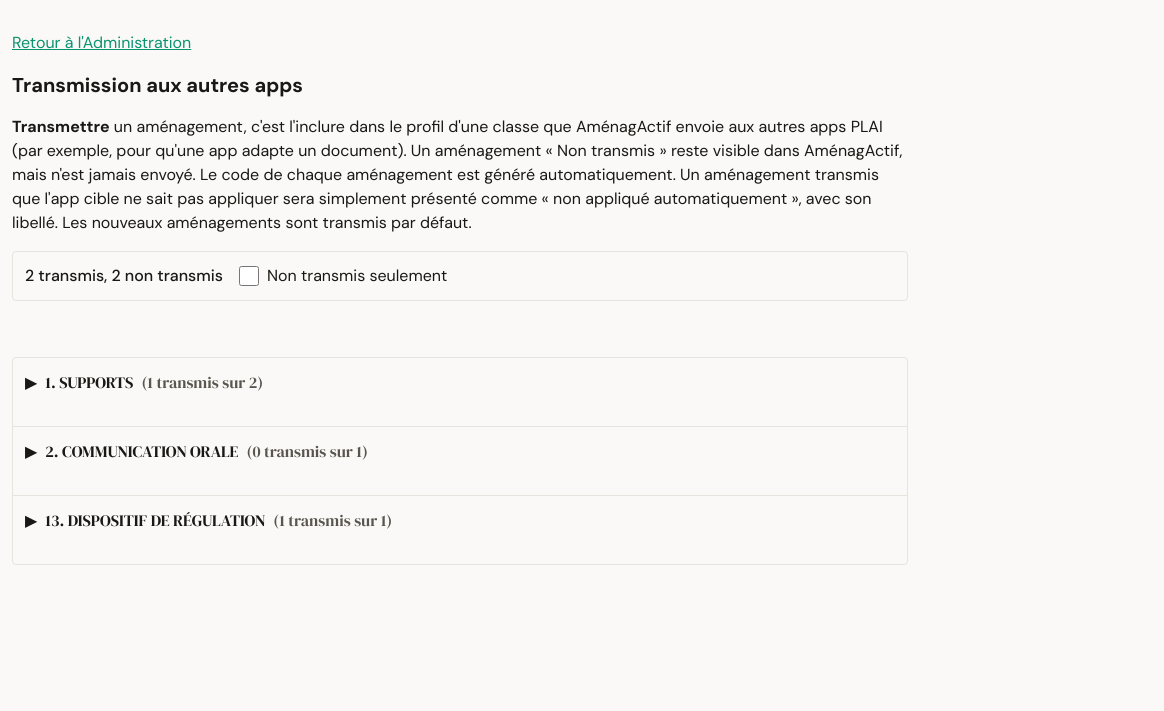
écran Transmission aux autres apps › un item de dispositif affiche « selon la classe » au lieu de AR
Click the button "▶ 13. DISPOSITIF DE RÉGULATION (1 transmis sur 1)": click(155, 520) x1=13 y1=496 x2=907 y2=544
(page scrolled)
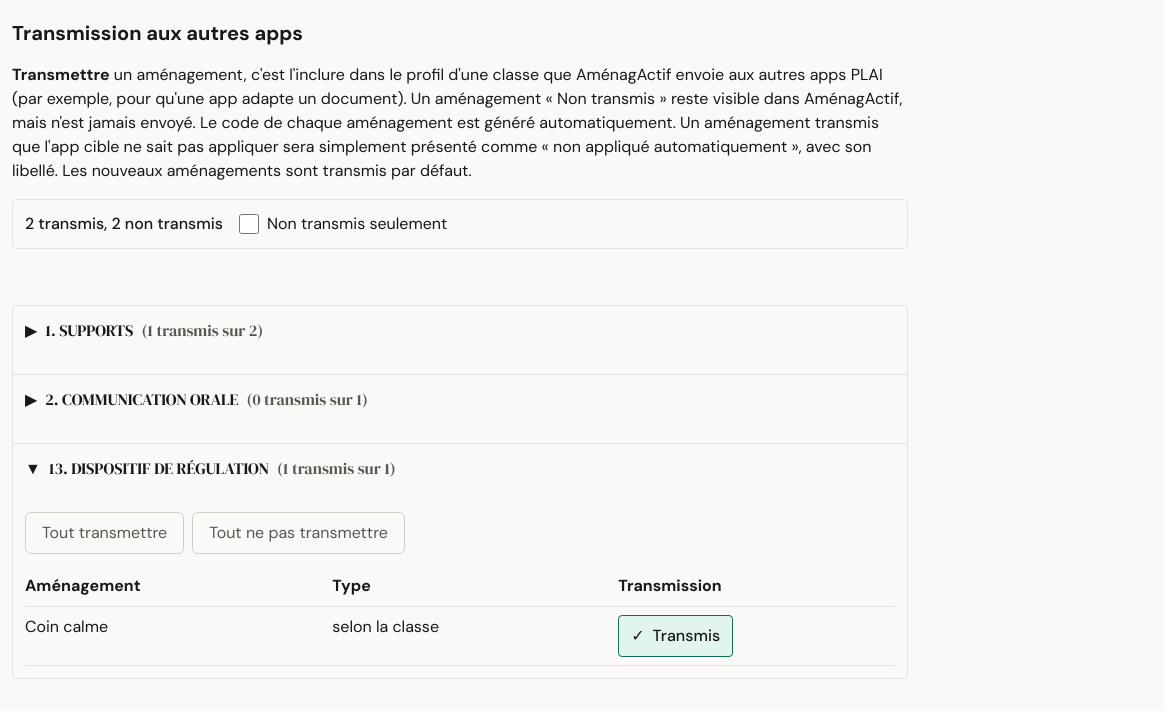
expect the text "selon la classe" is shown: met, box x1=332 y1=607 x2=618 y2=666
